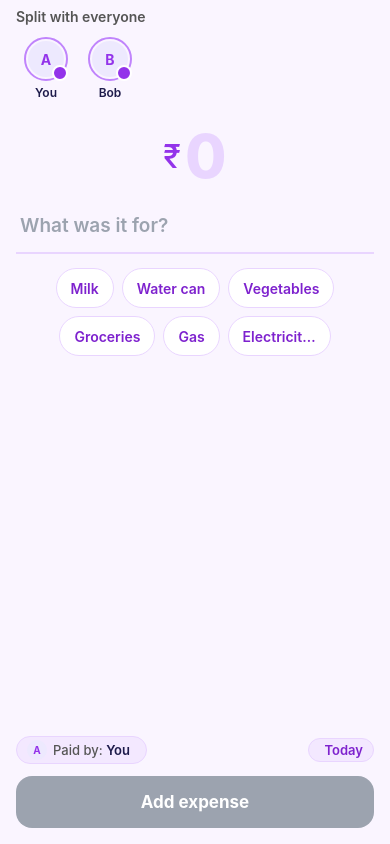
Test: AddGroceryScreen paid by › lets admins pick another payer and saves it for that member
Expected: the text "Split with everyone" is shown, [16,8,146,25]
Step 1. Click the element named "Paid by You" → (82, 750), box [16,736,147,764]
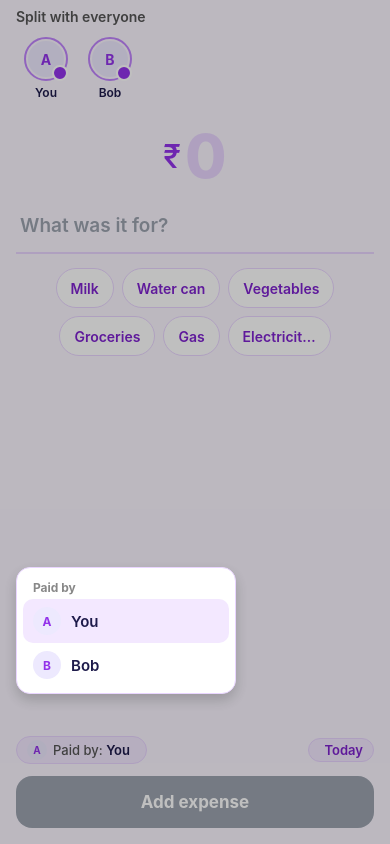
Step 2. Click the text "Bob" → (85, 665), box [71,656,99,674]
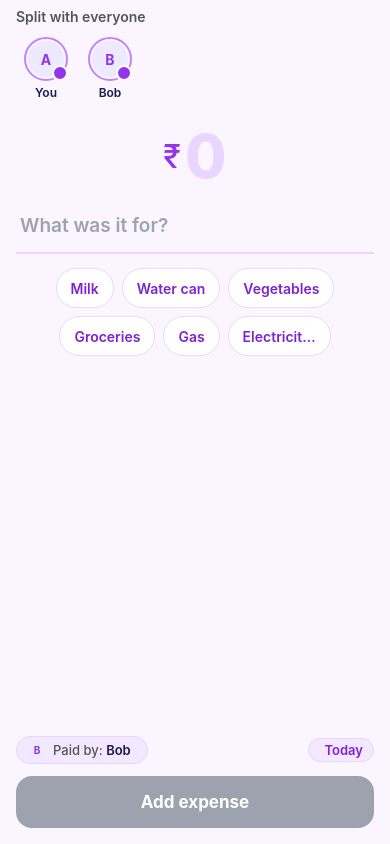
Expected: the element named "Paid by Bob" is shown, [16,736,148,764]
Step 3. Type "80" into the field with test id "amount-input-ADD EXPENSE" → (206, 156), box [185,120,227,192]
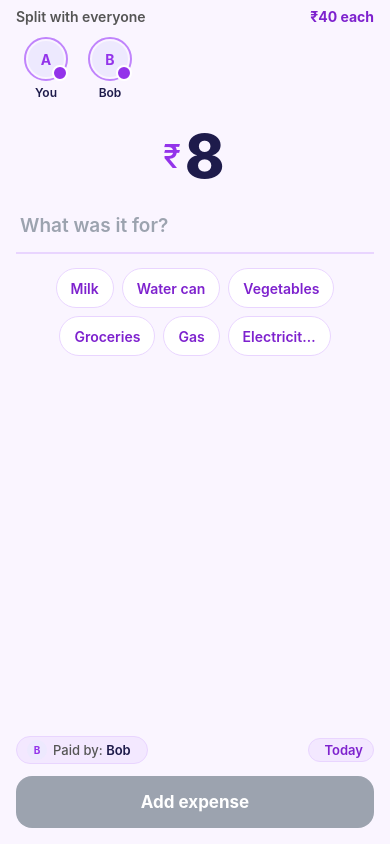
Step 4. Type "Water can" into the field labelled "What was it for" → (195, 226), box [20,208,370,243]
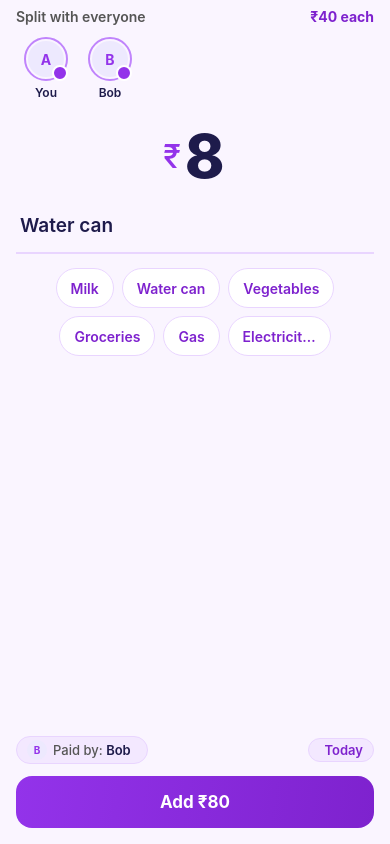
Step 5. Click the button with test id "submit-button-ADD EXPENSE" → (195, 802), box [16,776,374,828]
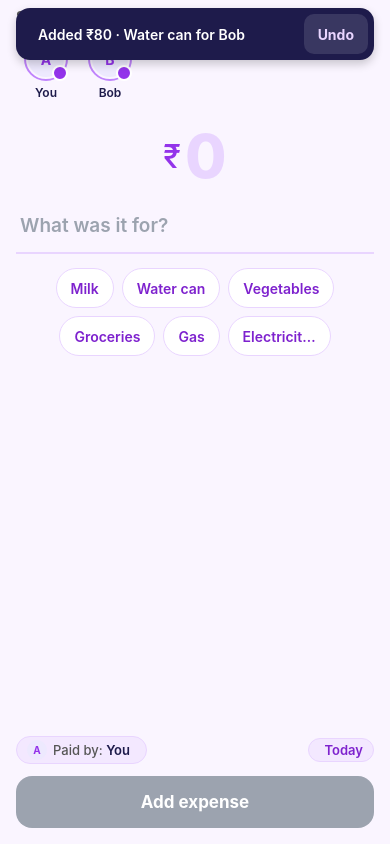
Expected: the text "Added ₹80 · Water can for Bob" is shown, [38,26,245,42]
